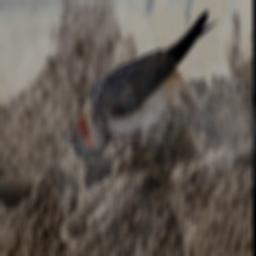Swallow: (59, 9, 223, 160)
